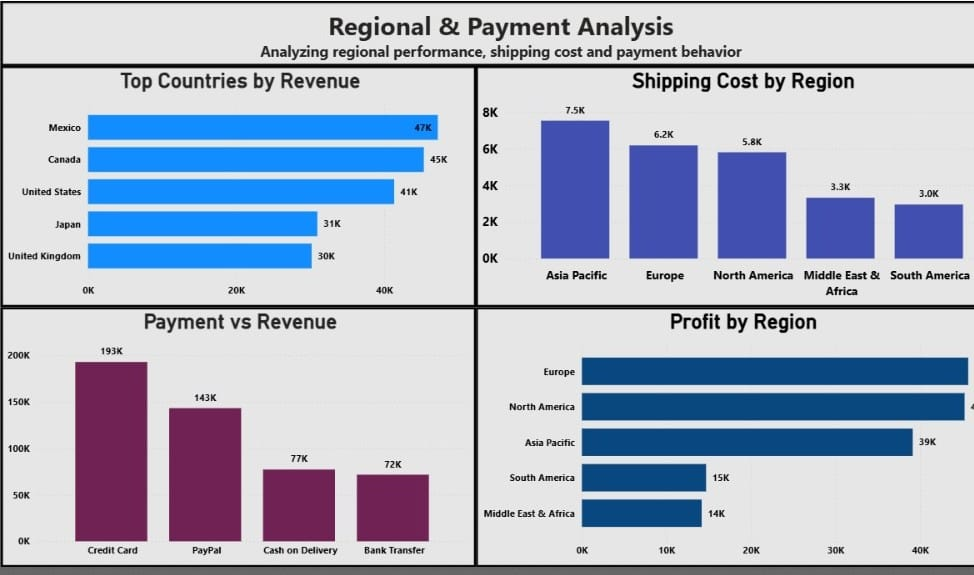

This screenshot's page, from the dashboard's own definition file:
{"tool":"powerbi","page":{"name":"Regional & Payment Analysis","canvas":[1280,720],"ordinal":2},"visuals":[{"type":"clusteredBarChart","title":"Top Countries by Revenue","fields":{"Category":["global_ecommerce_sales_dataset.Country"],"Y":["global_ecommerce_sales_dataset.Total Revenue"]},"box":[0,82.7,604.4,307],"z":0},{"type":"barChart","title":"Profit by Region","fields":{"Category":["global_ecommerce_sales_dataset.Region"],"Y":["global_ecommerce_sales_dataset.Total Profit"]},"box":[604.4,389.7,676,330.8],"z":1000},{"type":"columnChart","title":"Shipping Cost by Region","fields":{"Category":["global_ecommerce_sales_dataset.Region"],"Y":["Sum(global_ecommerce_sales_dataset.Shipping_Cost)"]},"box":[604.4,82.7,676,307],"z":2000},{"type":"clusteredColumnChart","title":"Payment vs Revenue","fields":{"Category":["global_ecommerce_sales_dataset.Payment_Method"],"Y":["global_ecommerce_sales_dataset.Total Revenue"]},"box":[0,389.7,604.4,330.8],"z":3000},{"type":"textbox","box":[0,0,1280.4,82.7],"z":4000}]}

Visuals, with their boxes in screenshot pixels (x1, y1, x2, y2):
"Top Countries by Revenue" clusteredBarChart: x1=3 y1=64 x2=473 y2=303
"Profit by Region" barChart: x1=473 y1=303 x2=973 y2=561
"Shipping Cost by Region" columnChart: x1=473 y1=64 x2=973 y2=303
"Payment vs Revenue" clusteredColumnChart: x1=3 y1=303 x2=473 y2=561
textbox: x1=3 y1=0 x2=973 y2=64
